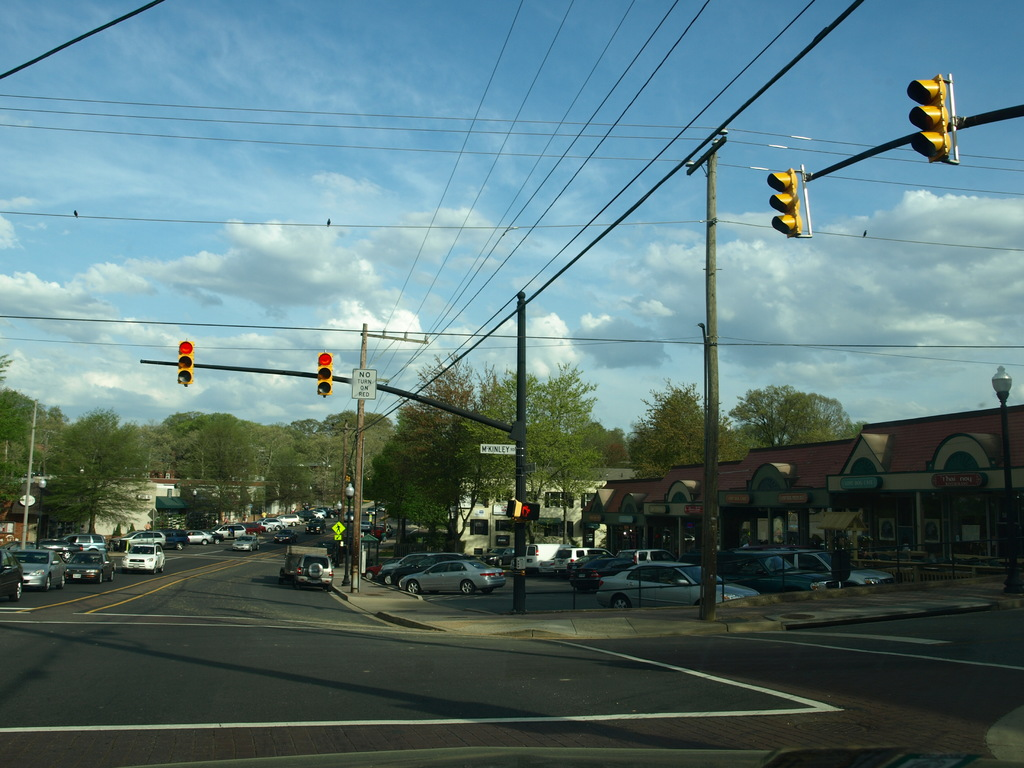red_light: (176, 340, 194, 386), (318, 350, 331, 393)
